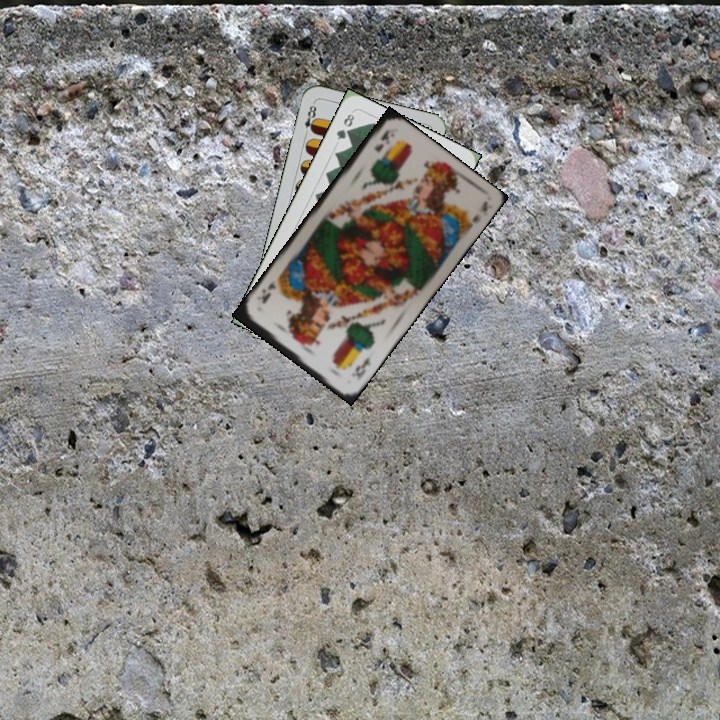E8: (300, 99, 319, 139)
EK: (347, 353, 374, 383), (370, 125, 392, 154)
G8: (332, 108, 357, 142)
